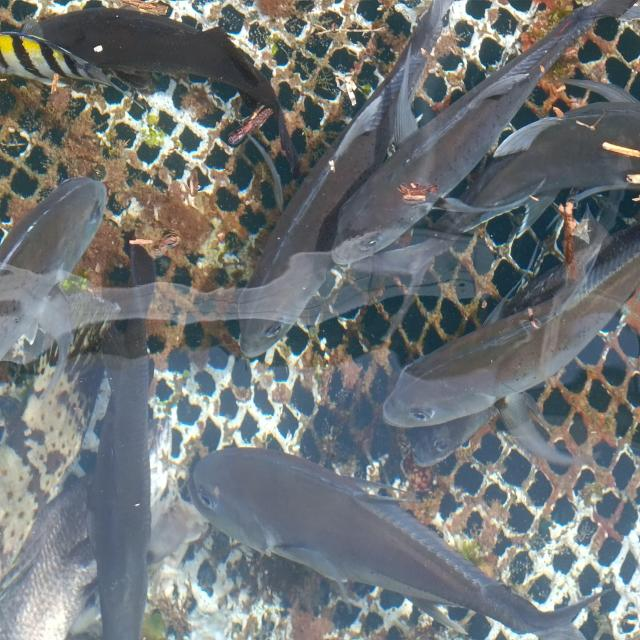ikan: (352, 2, 638, 266), (183, 444, 539, 628), (389, 217, 640, 438), (0, 5, 300, 189), (2, 177, 112, 377), (1, 28, 135, 104)
